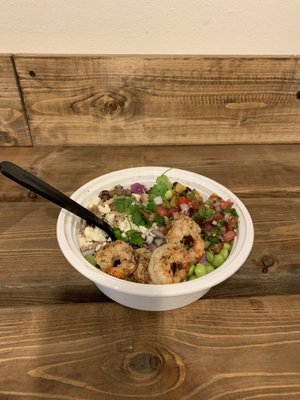salad: (0, 160, 118, 239)
sandwich: (0, 160, 118, 240)
sushi: (58, 165, 256, 312)
